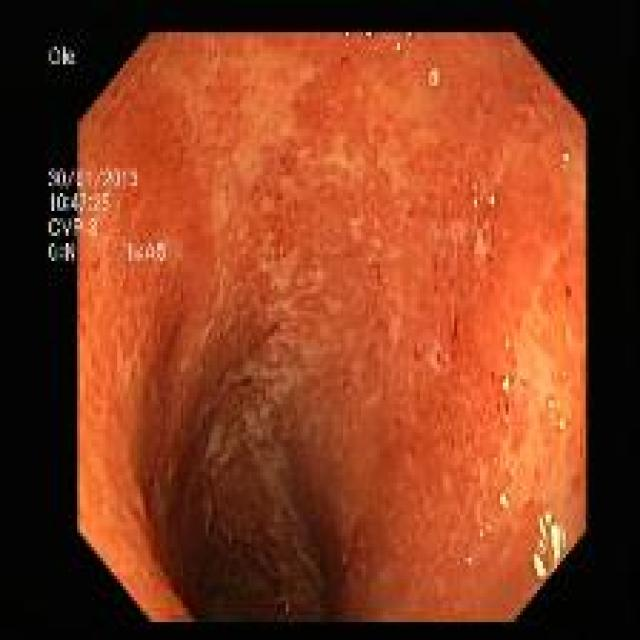ulcerative-colitis: (76, 33, 586, 621)
